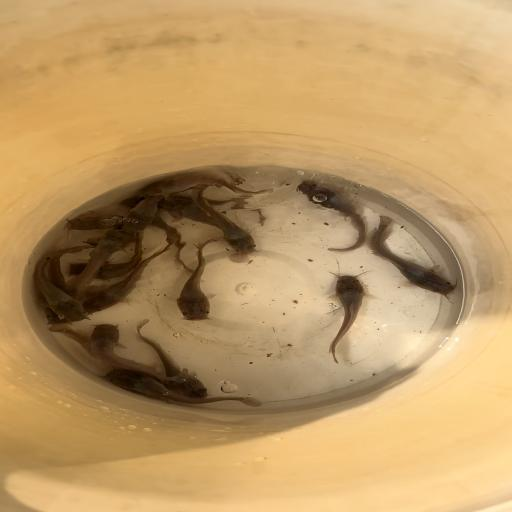lele: (54, 213, 195, 273), (364, 214, 456, 297), (49, 324, 165, 384), (102, 365, 263, 408), (90, 320, 192, 384), (131, 318, 210, 400), (88, 242, 176, 313), (64, 224, 145, 294), (295, 180, 368, 252), (192, 181, 258, 255), (32, 246, 90, 322), (172, 238, 222, 322), (324, 270, 366, 364), (68, 231, 147, 280), (140, 173, 278, 197), (42, 250, 82, 324), (161, 200, 236, 232), (121, 194, 166, 234), (120, 194, 262, 206)
